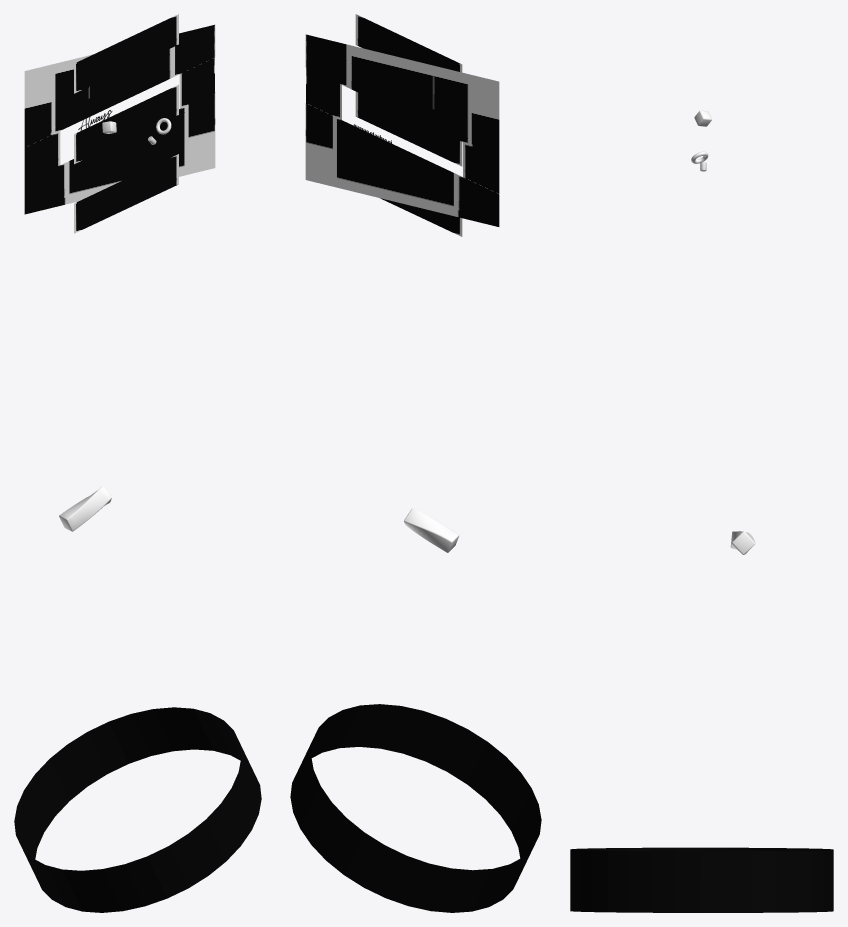
The model's file is section_2.glb.
3 renders of one model, left to right at view 1: azimuth 30°, elevation 25°; view 2: azimuth 150°, elevation 25°; view 3: azimuth 270°, elevation 25°, orthographic. The views are drawn at different scales.
Visible parts, largest first — view 1: Flexible, Background, TitleContainer; view 2: Flexible, Background, TitleContainer; view 3: Background.
Part boxes in pixels (left/top/right/bottom): Flexible: left=24, top=14, right=215, bottom=233; Background: left=14, top=707, right=261, bottom=912; TitleContainer: left=59, top=486, right=111, bottom=531; Flexible: left=305, top=14, right=499, bottom=236; Background: left=290, top=704, right=541, bottom=912; TitleContainer: left=404, top=508, right=459, bottom=552; Background: left=570, top=847, right=833, bottom=912.
Bounding box in the file's own units: 24.79 × 94.41 × 24.59.
Materials: 8 (3 with a texture image).
